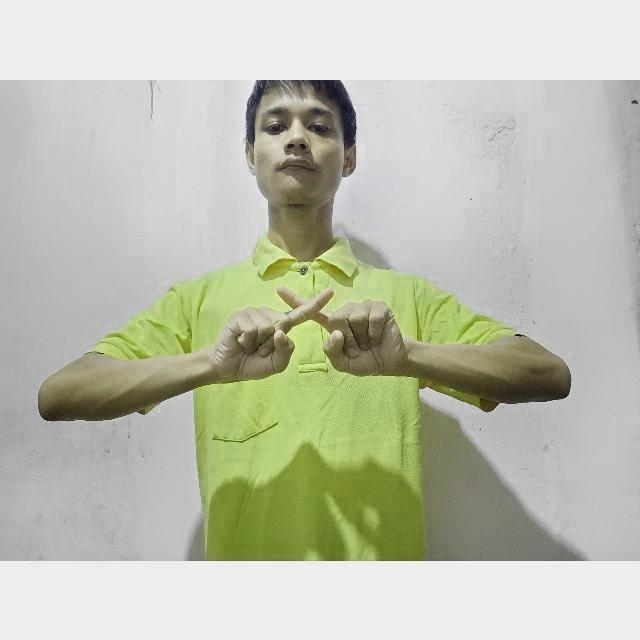X: (213, 270, 410, 404)
